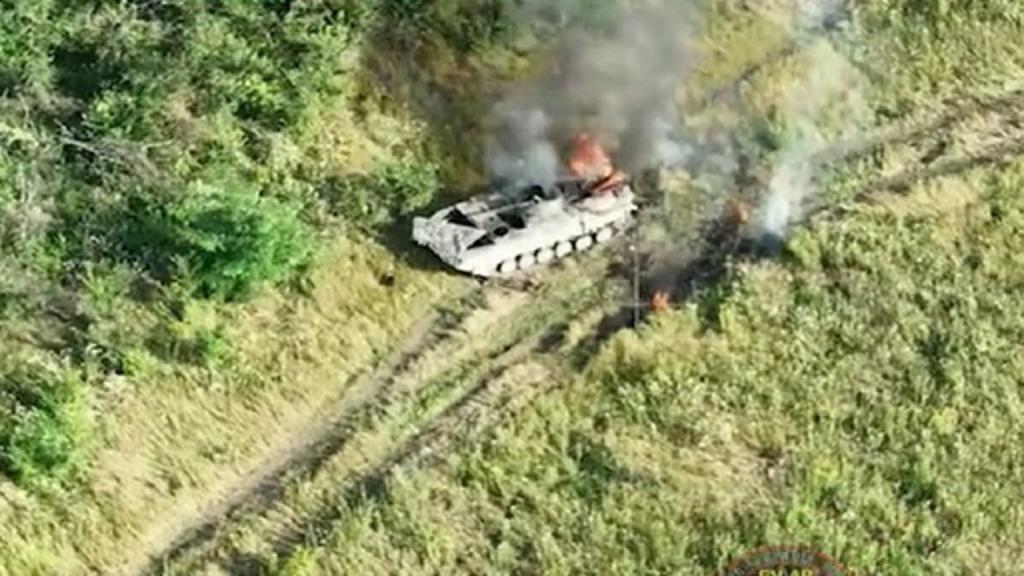APC-IFV: (394, 156, 640, 272)
